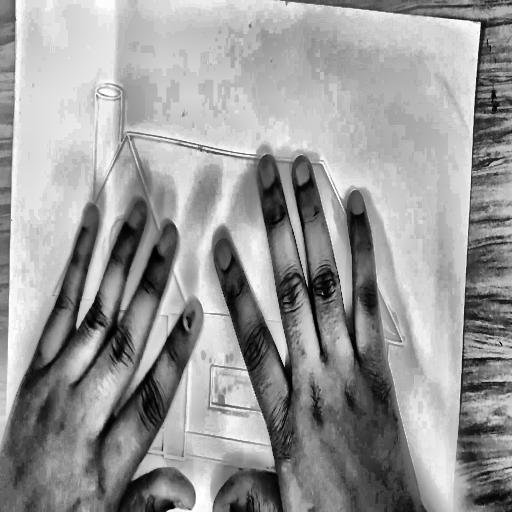house: (0, 64, 456, 506)
top_right: (475, 13, 486, 33)
